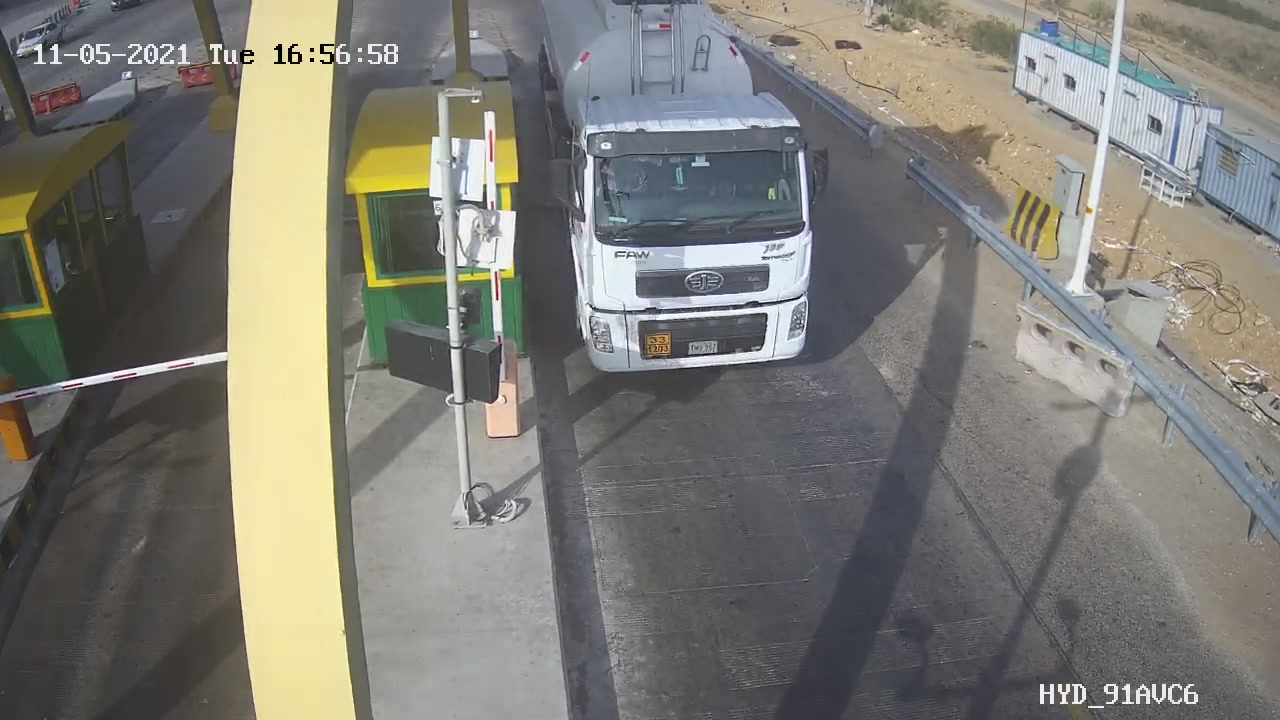F6: (526, 1, 840, 403)
